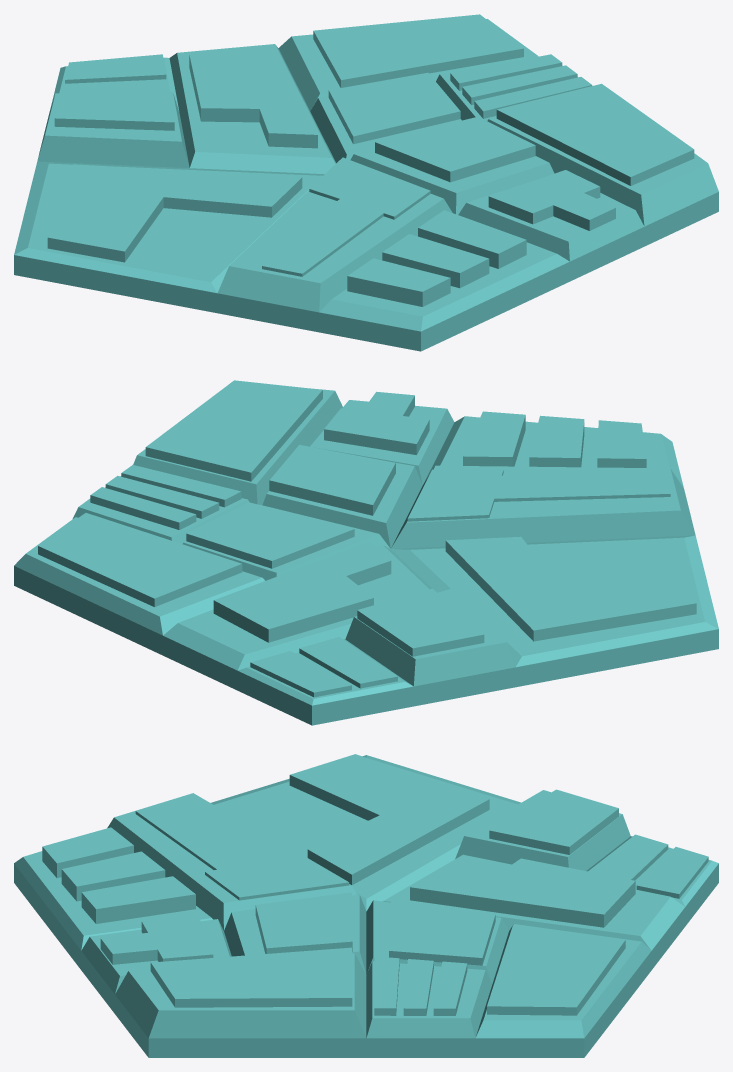
The model's file is DysonSpherePent01.FBX.
The picture shows the model from 3 angles, top to bottom: view 1: azimuth 30°, elevation 25°; view 2: azimuth 150°, elevation 25°; view 3: azimuth 270°, elevation 25°; orthographic projection. The views are drawn at different scales.
Parts seen in each view (by area): view 1: Pentagon01; view 2: Pentagon01; view 3: Pentagon01.
Part boxes in pixels (x1,y1,x2,y2): Pentagon01: [14, 14, 718, 351]; Pentagon01: [14, 380, 718, 725]; Pentagon01: [14, 754, 718, 1057].
Bounding box in the file's own units: 31.05 × 2.75 × 32.65.
